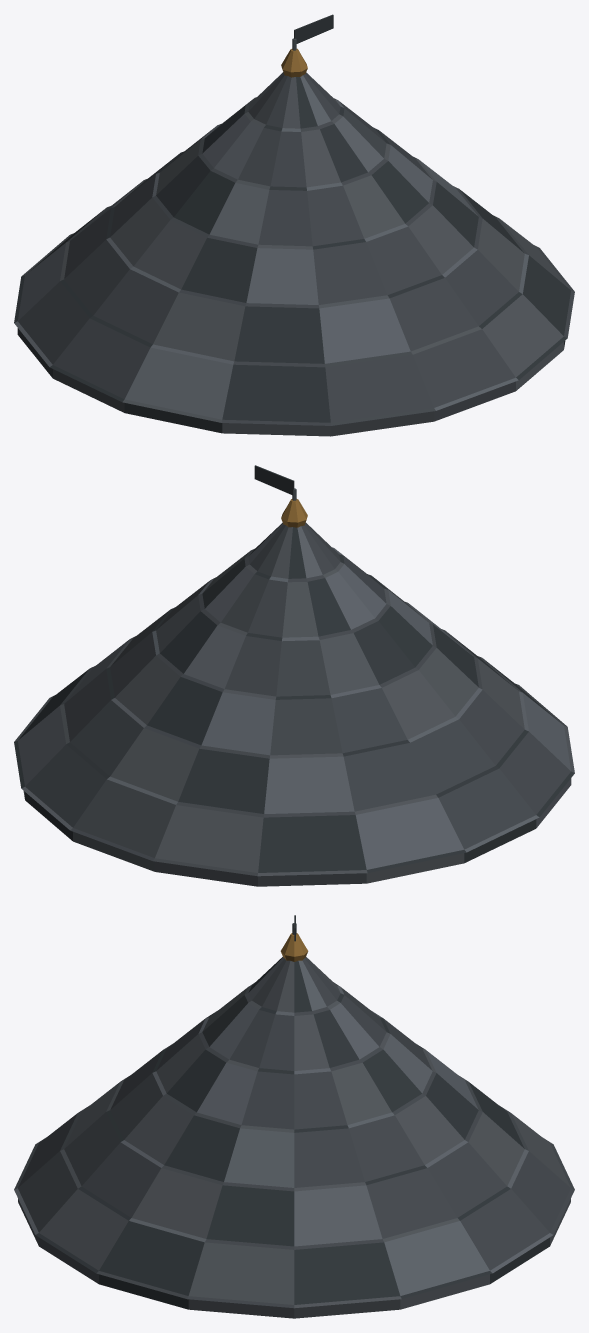
Rendered from Castle_Tower_Round_Roof_-_Low_Poly_Medieval_CC0.glb.
3 views of the same model, one above another, from view 1: azimuth 30°, elevation 25°; view 2: azimuth 150°, elevation 25°; view 3: azimuth 270°, elevation 25° (orthographic).
Visible parts, largest first — view 1: unnamed; view 2: unnamed; view 3: unnamed.
Part boxes in pixels (x1,y1,x2,y2): unnamed: (14,14,574,436); unnamed: (14,465,574,886); unnamed: (14,915,574,1318).
Bounding box in the file's own units: 4.26 × 2.45 × 4.26.
Materials: 1 (1 with a texture image).
